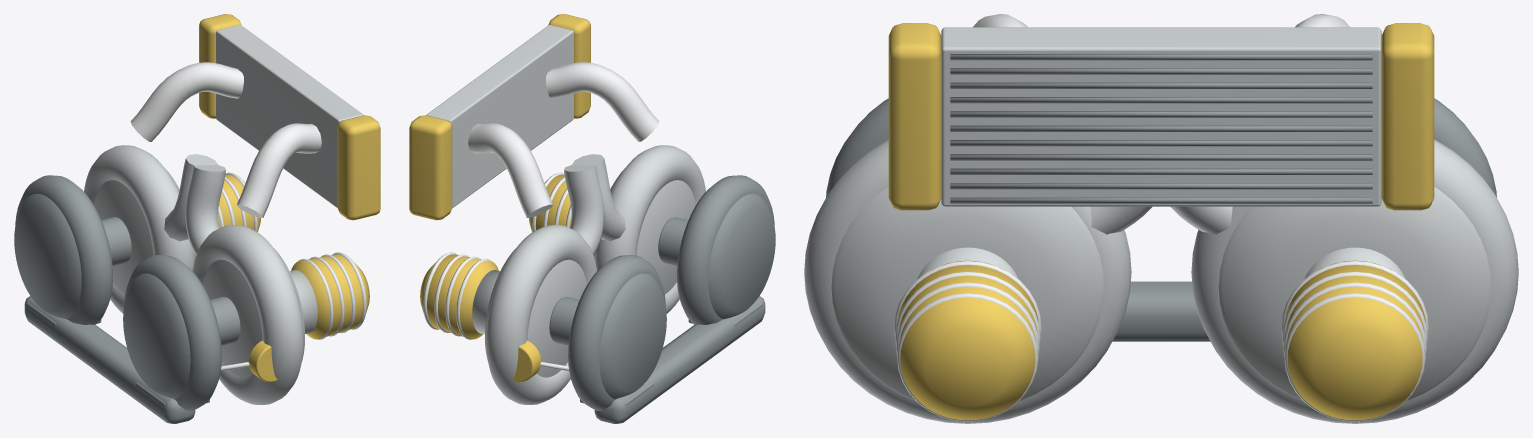
Rendered from turbo_twin.fbx.
3 renders of one model, left to right at view 1: azimuth 30°, elevation 25°; view 2: azimuth 150°, elevation 25°; view 3: azimuth 270°, elevation 25°, orthographic. The views are drawn at different scales.
Parts seen in each view (by area): view 1: turbo_twin; view 2: turbo_twin; view 3: turbo_twin.
Boxes of the visible parts, x1,y1,x2,y2 form: turbo_twin: (14,14,380,423); turbo_twin: (409,14,775,423); turbo_twin: (804,14,1518,423).
Bounding box in the file's own units: 49.5 × 59.1 × 81.2.
